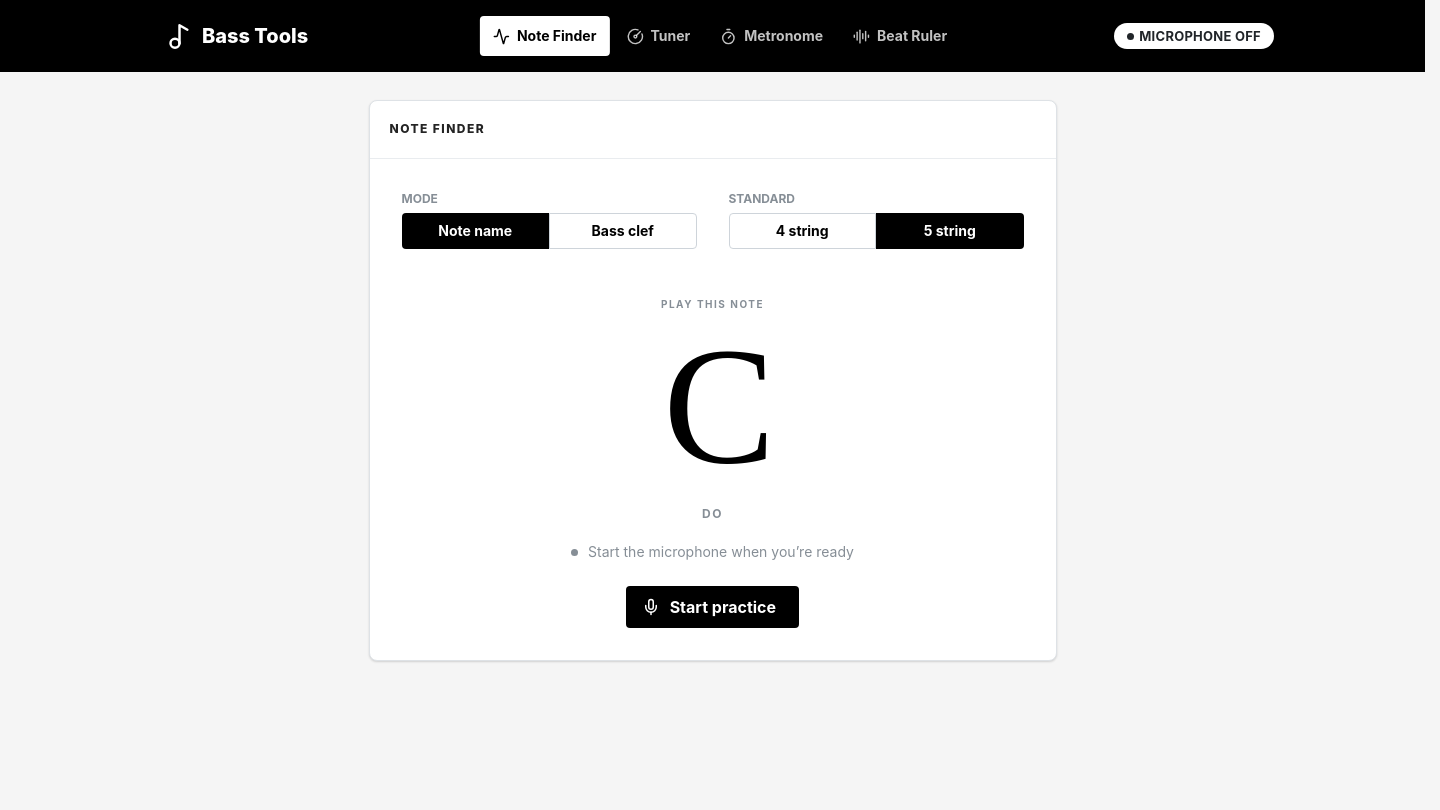
Test: App › matches any octave in note-name mode and gives green feedback
Click the button "Start practice".
click(713, 607)  # box [626,586,799,628]
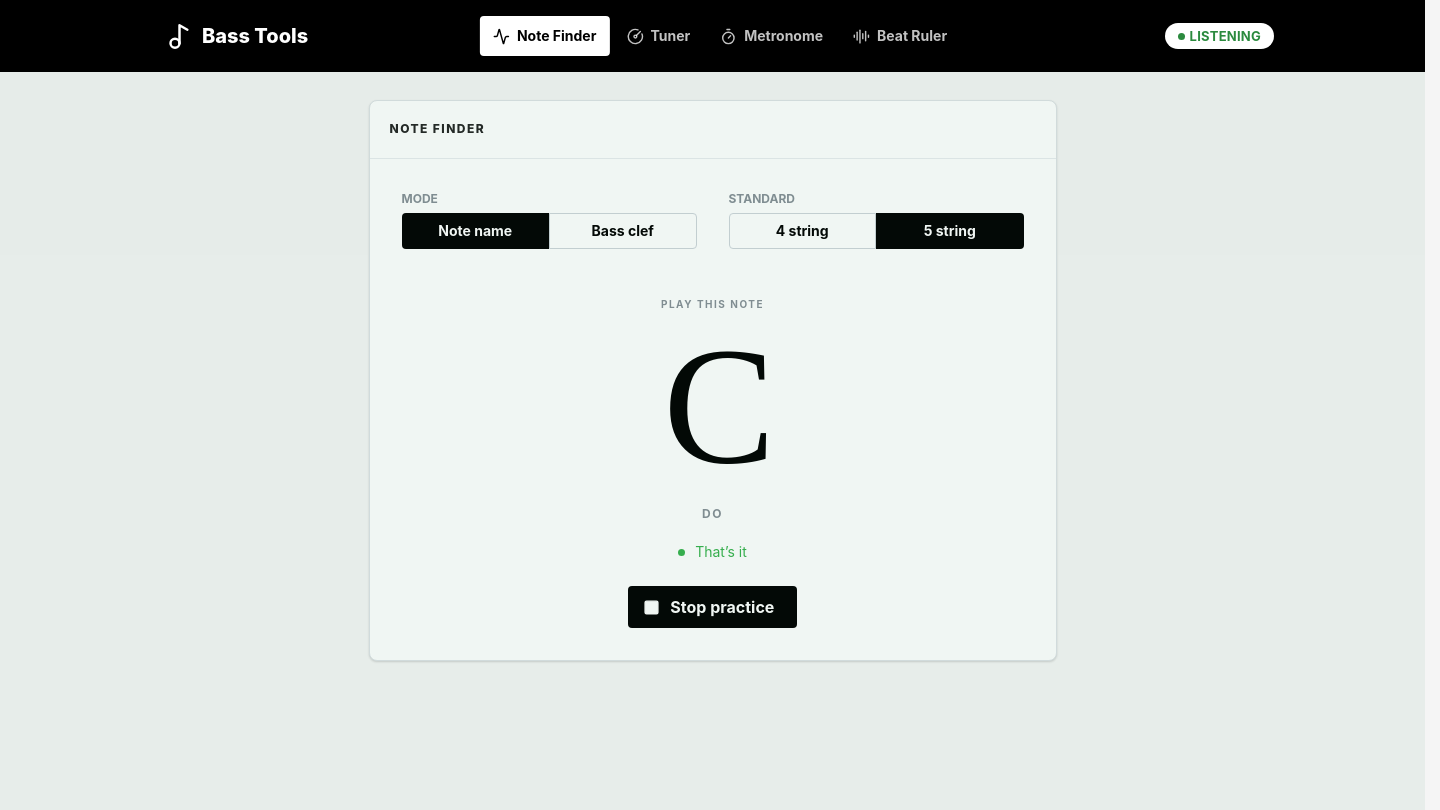
Expected: the text "That’s it" is shown, [678,538,747,566]
